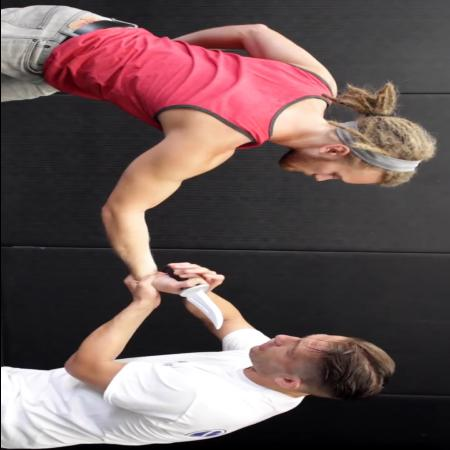long weapon: (158, 260, 234, 333)
